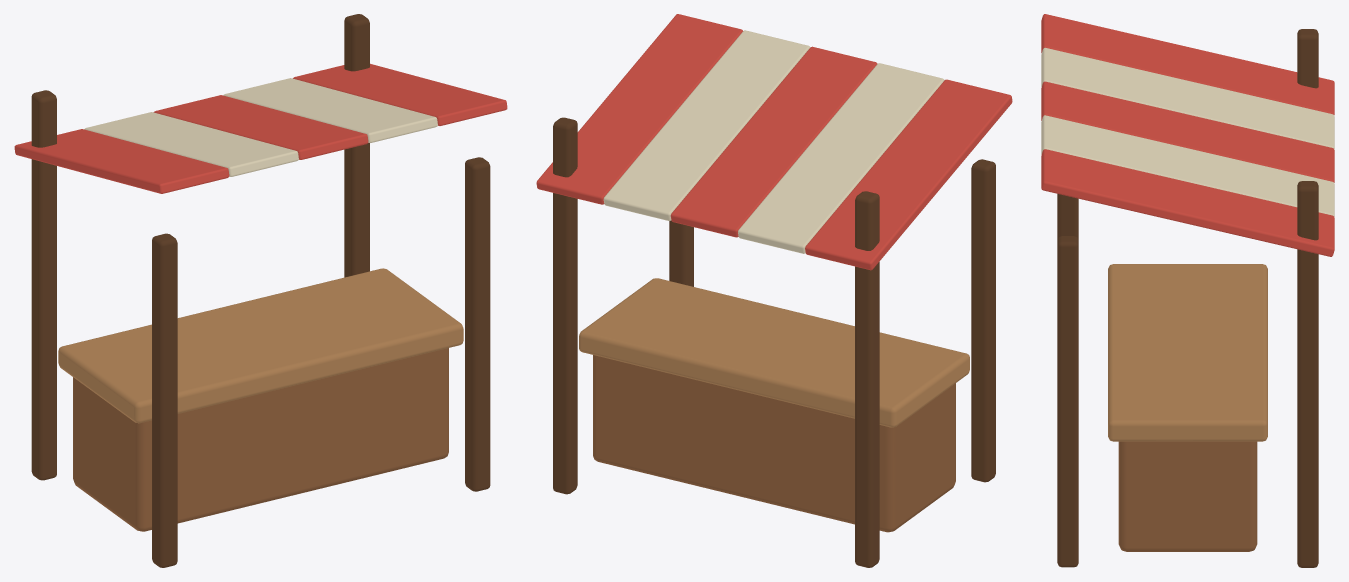
Rendered from stall.glb.
3 renders of one model, left to right at view 1: azimuth 30°, elevation 25°; view 2: azimuth 150°, elevation 25°; view 3: azimuth 270°, elevation 25°, orthographic. The views are drawn at different scales.
Parts seen in each view (by area): view 1: stall; view 2: stall; view 3: stall.
Boxes of the visible parts, x1=… form: stall: x1=14, y1=14, x2=507, y2=567; stall: x1=536, y1=14, x2=1012, y2=567; stall: x1=1041, y1=14, x2=1334, y2=567.
Bounding box in the file's own units: 3 × 3.24 × 2.2.
